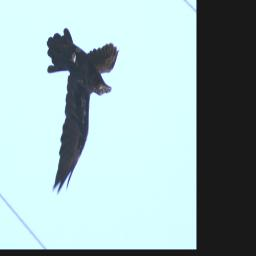Crow: (46, 28, 120, 195)
